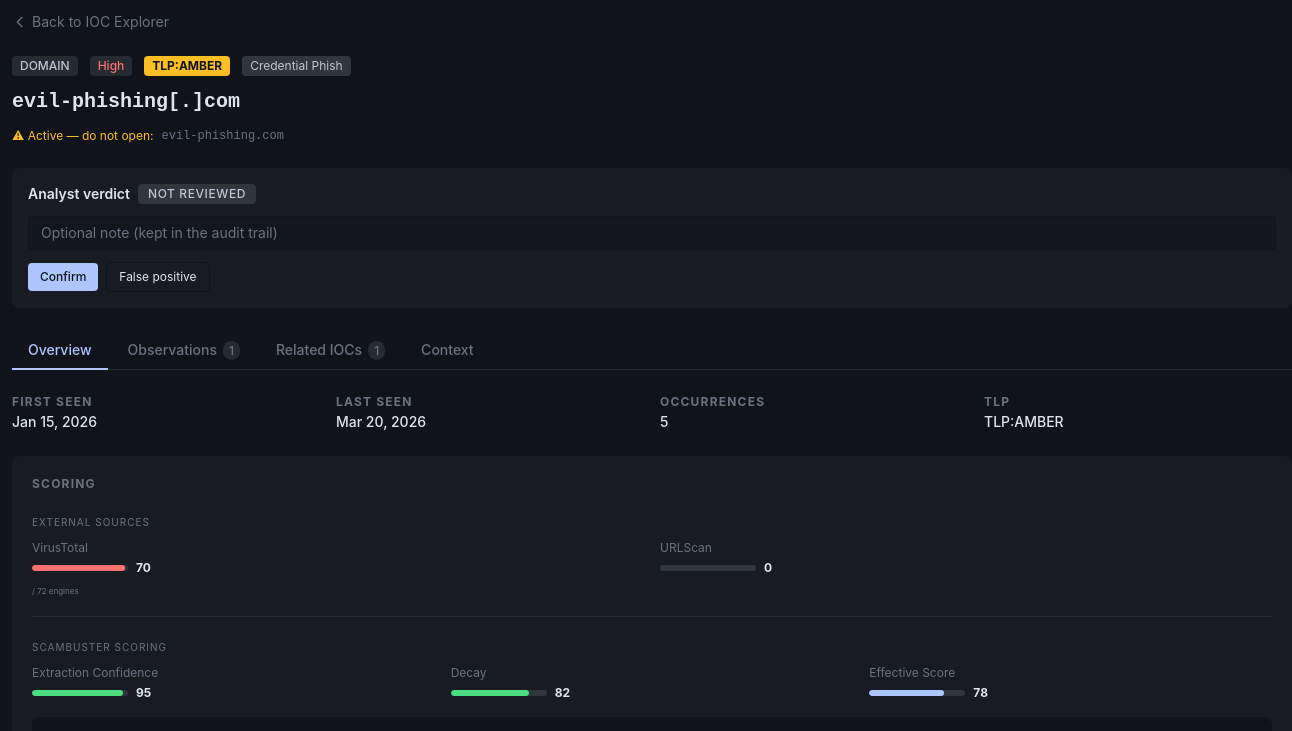
IocDetail › renders observations tab with conversation links
Expected: the text "evil-phishing.com" is shown, [162,128,284,144]
Note: Click observations tab
What coordinates should you click on to do the following:
click the button "Observations1"
I would click on:
 (184, 351)
Its box is [112,332,256,370].
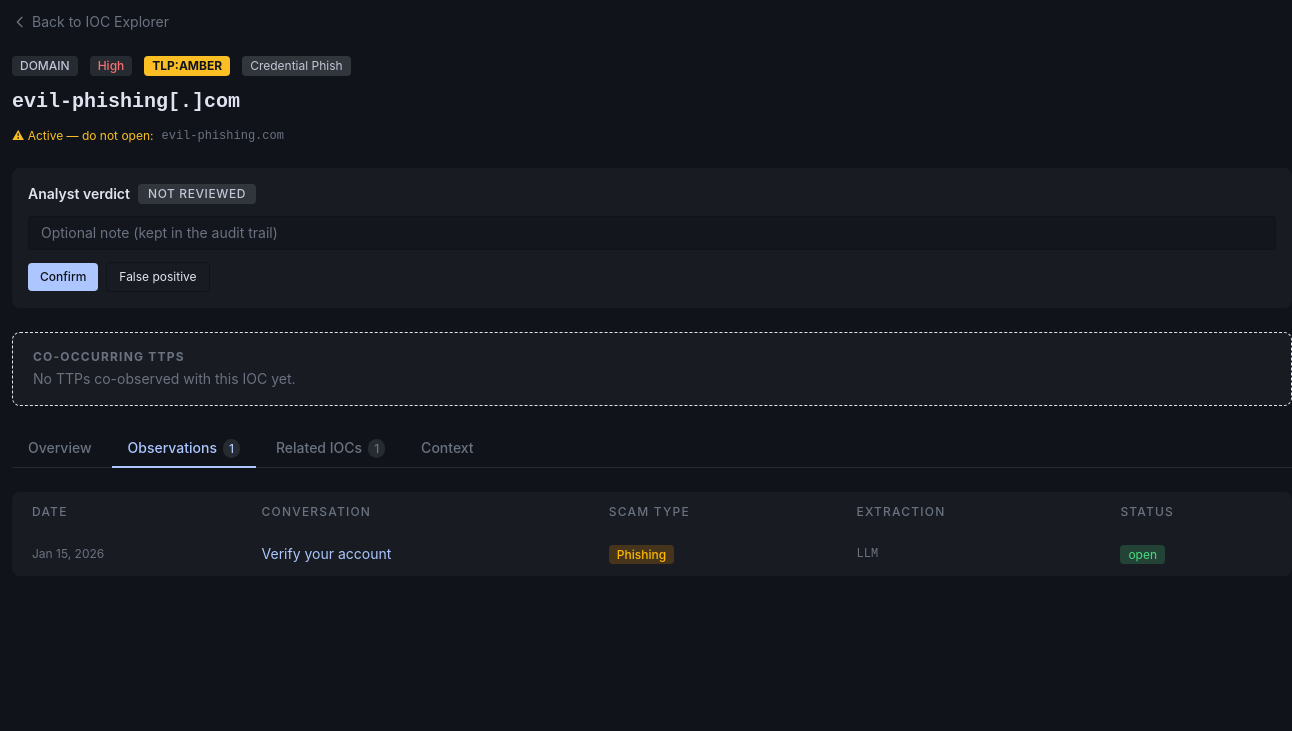
Expected: the text "Phishing" is shown, [609,545,674,564]
Expected: the link "Verify your account" is shown, [262,545,391,562]
Expected: the text "LLM" is shown, [836,532,1100,576]
